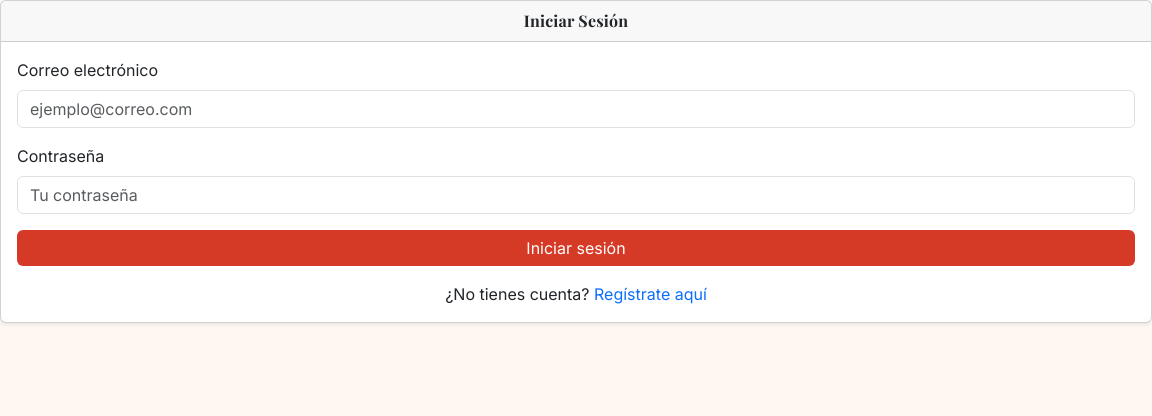
Test: Pruebas de LoginForm › muestra 'Usuario o contraseña incorrectos' cuando el backend responde 401
This screenshot has width=1152, height=416.
// Completar email y contraseña
Type "admin@admin.com" into the field labelled "Correo electrónico" at (576, 109), box [17,90,1135,128]
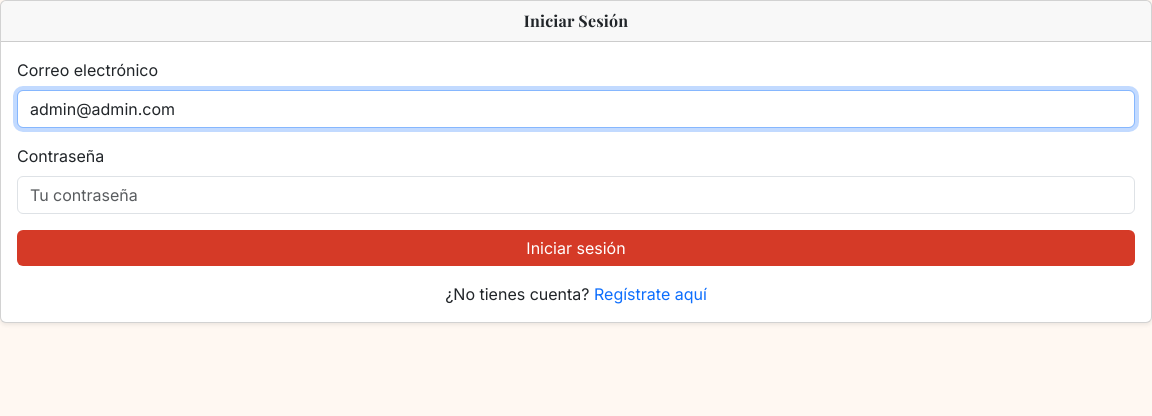
Type "ClaveIncorrecta" into the password field labelled "Contraseña" at (576, 195), box [17,176,1135,214]
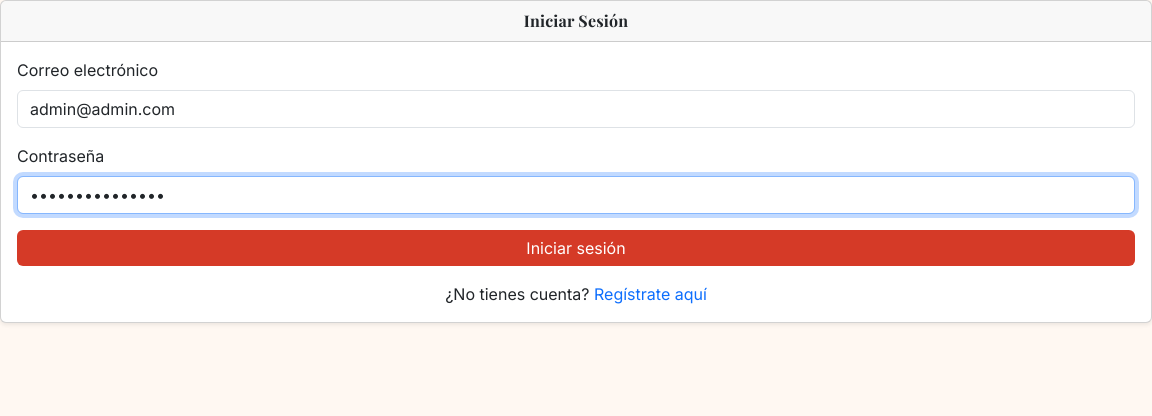
// Enviar formulario
Click the button "Iniciar sesión" at (576, 248), box [17,230,1135,266]
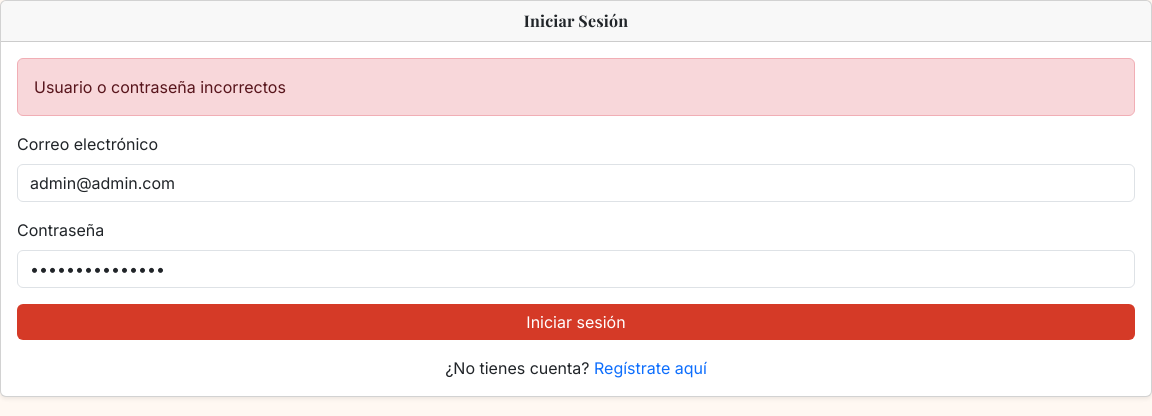
Expected: the text "Usuario o contraseña incorrectos" is shown, [17,58,1135,116]
